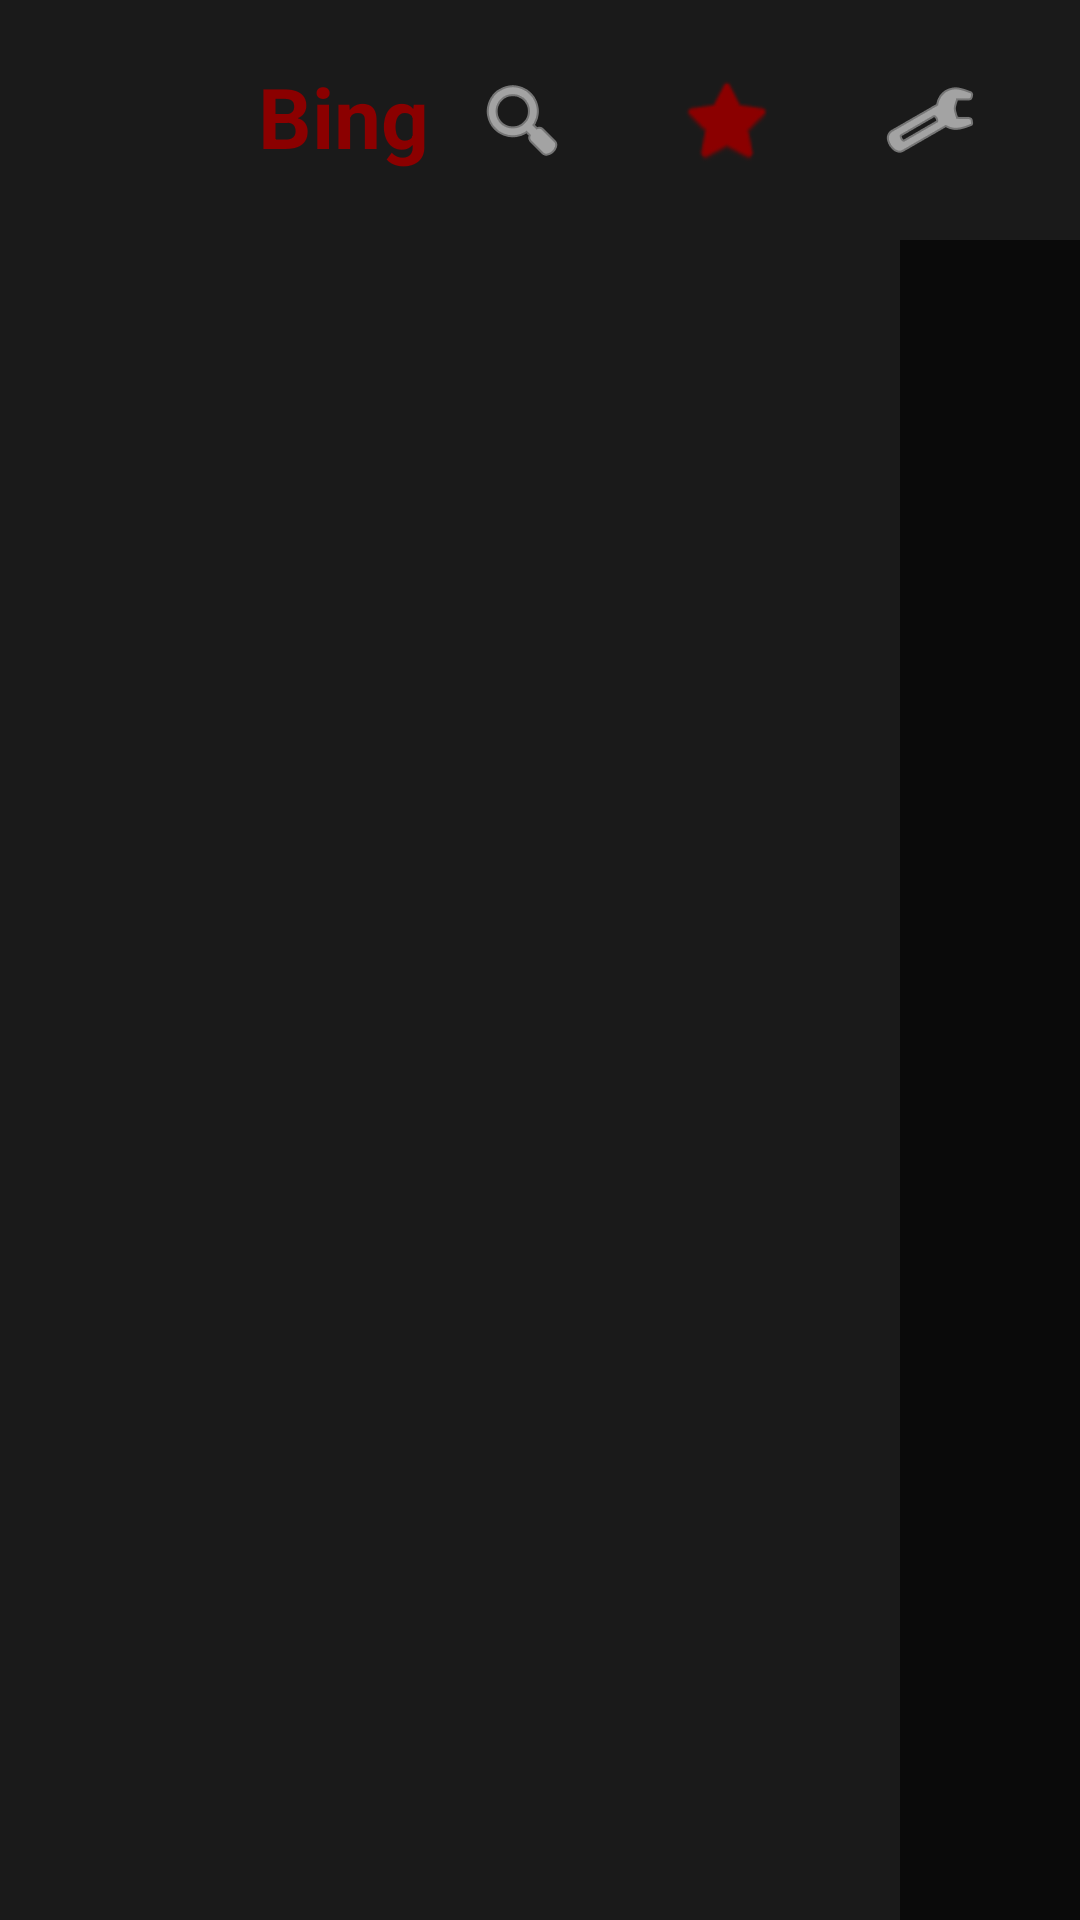

Icon click points for this 1080*1920 phone screenshot, format (x,y):
Favorites: (726,120)
Search: (522,120)
Settings: (930,120)
